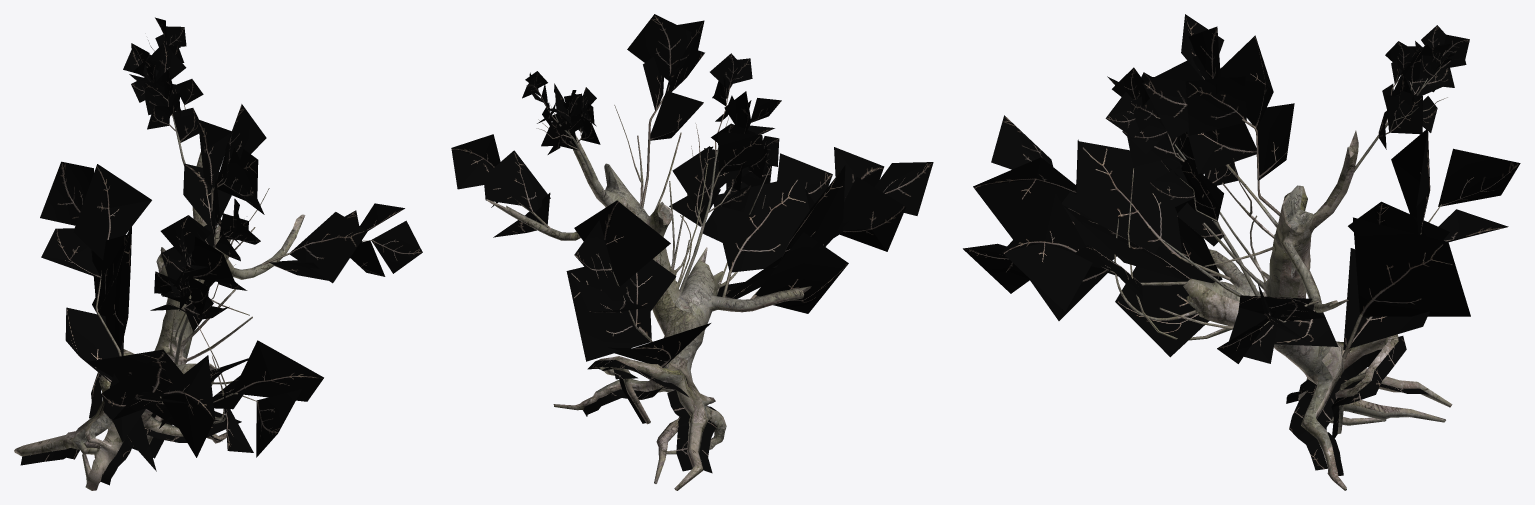
File: SM_Tree_bent_07.fbx
3 views of the same model, side by side, from view 1: azimuth 30°, elevation 25°; view 2: azimuth 150°, elevation 25°; view 3: azimuth 270°, elevation 25° (orthographic). The views are drawn at different scales.
Parts seen in each view (by area): view 1: SM_Tree_bent_07; view 2: SM_Tree_bent_07; view 3: SM_Tree_bent_07.
Boxes of the visible parts, x1=… form: SM_Tree_bent_07: x1=14, y1=17, x2=422, y2=490; SM_Tree_bent_07: x1=451, y1=14, x2=933, y2=490; SM_Tree_bent_07: x1=963, y1=14, x2=1520, y2=490.
Size of the model in its own units: 401 by 433 by 398.
Materials: 2 (2 with a texture image).
